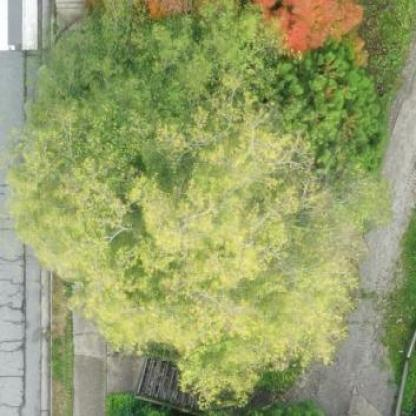Deciduous Tree: (20, 82, 354, 377), (49, 3, 282, 95), (109, 0, 362, 55)
